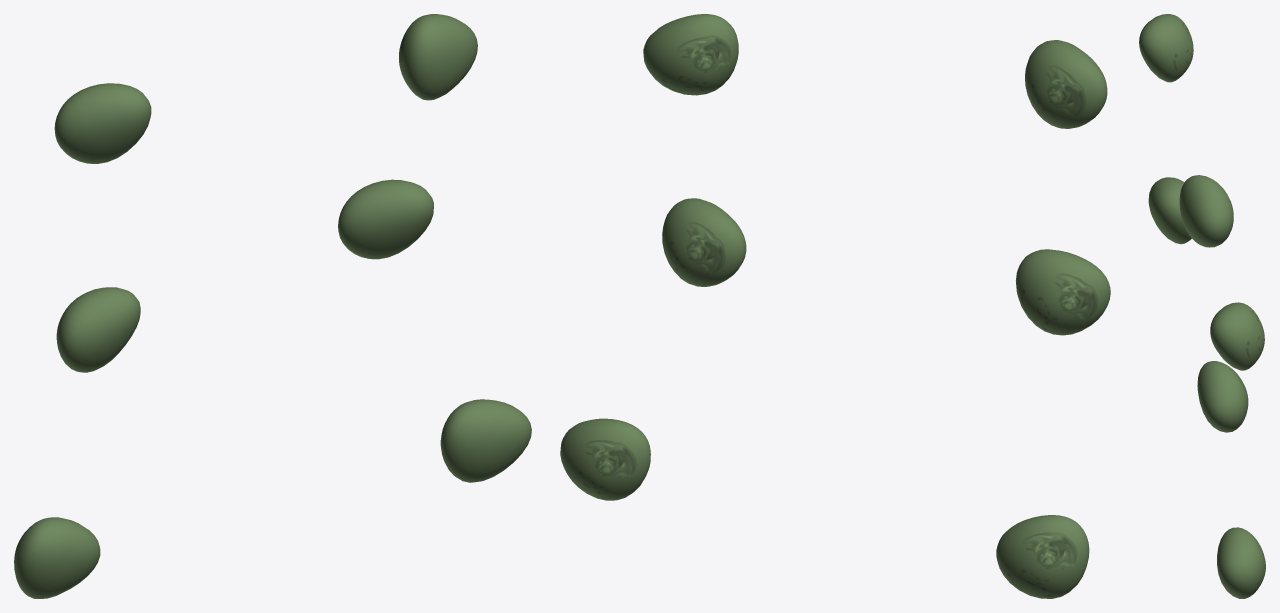
File: rocks.obj
3 views of the same model, side by side, from view 1: azimuth 30°, elevation 25°; view 2: azimuth 150°, elevation 25°; view 3: azimuth 270°, elevation 25° (orthographic). The views are drawn at different scales.
Visible parts, largest first — view 1: Rocks; view 2: Rocks; view 3: Rocks.
Boxes of the visible parts, x1,y1,x2,y2 form: Rocks: (14,14,531,598); Rocks: (560,14,1110,598); Rocks: (1139,14,1265,598).
Bounding box in the file's own units: 162 × 157 × 43.3.
Materials: 1 (1 with a texture image).
